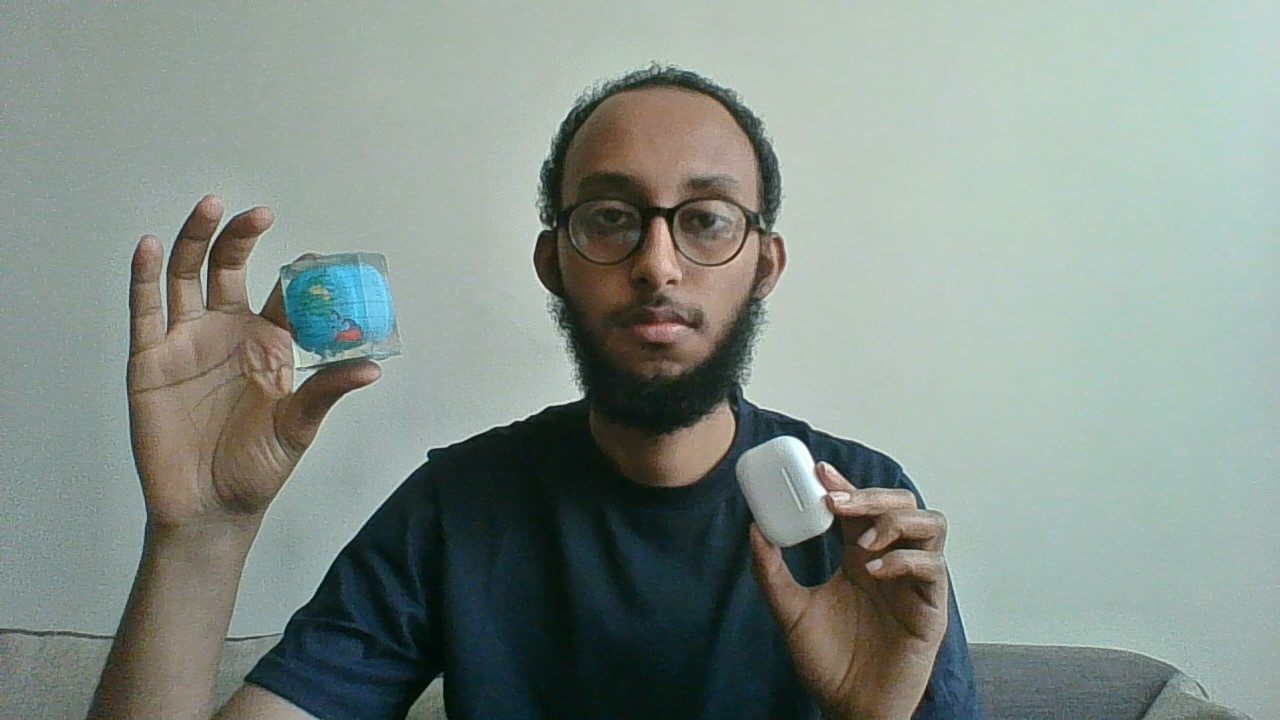Air_pod: (732, 431, 839, 551)
world_globe: (274, 246, 408, 372)
